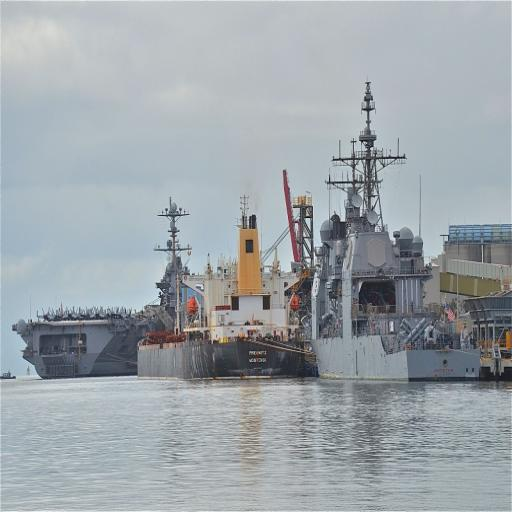Portanaves: (5, 184, 194, 385)
